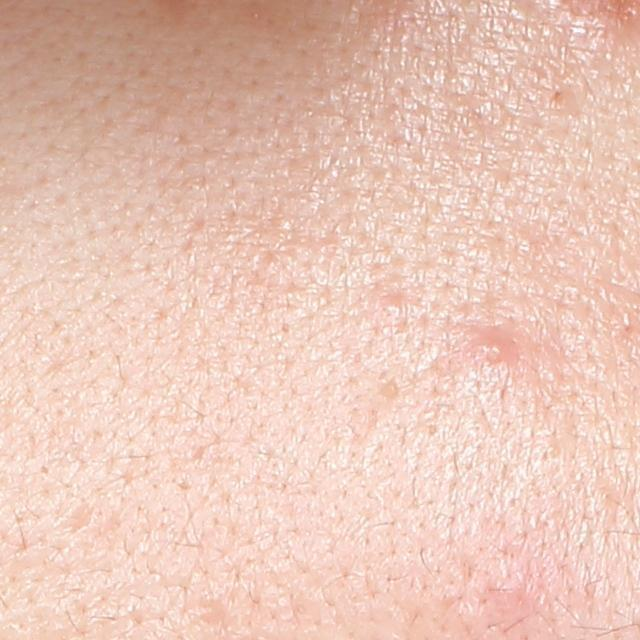papule: (469, 324, 528, 370)
